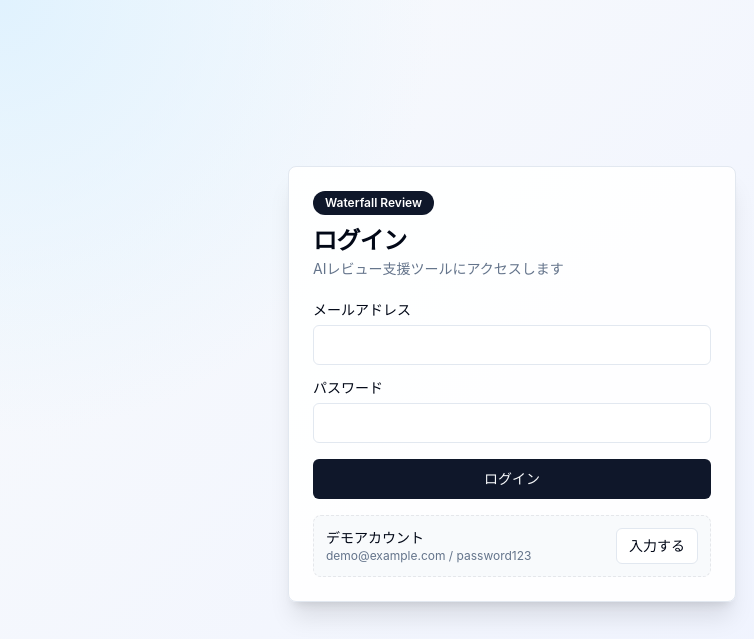
Test case: LoginPage › fills demo credentials
This screenshot has width=754, height=639.
Click the button "入力する": (657, 546) [616, 528, 698, 564]
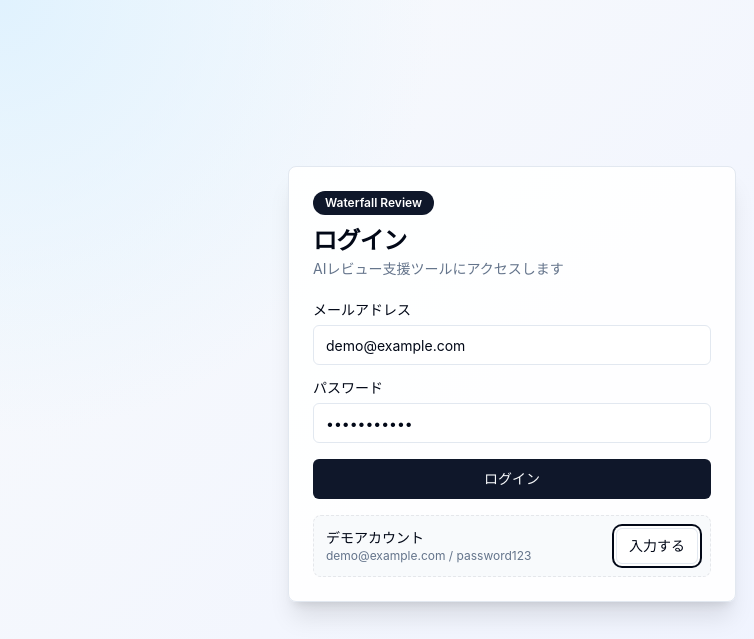
Result: the field labelled "メールアドレス" holds "demo@example.com" at [313, 325, 711, 365]
Result: the password field labelled "パスワード" holds "password123" at [313, 403, 711, 443]
